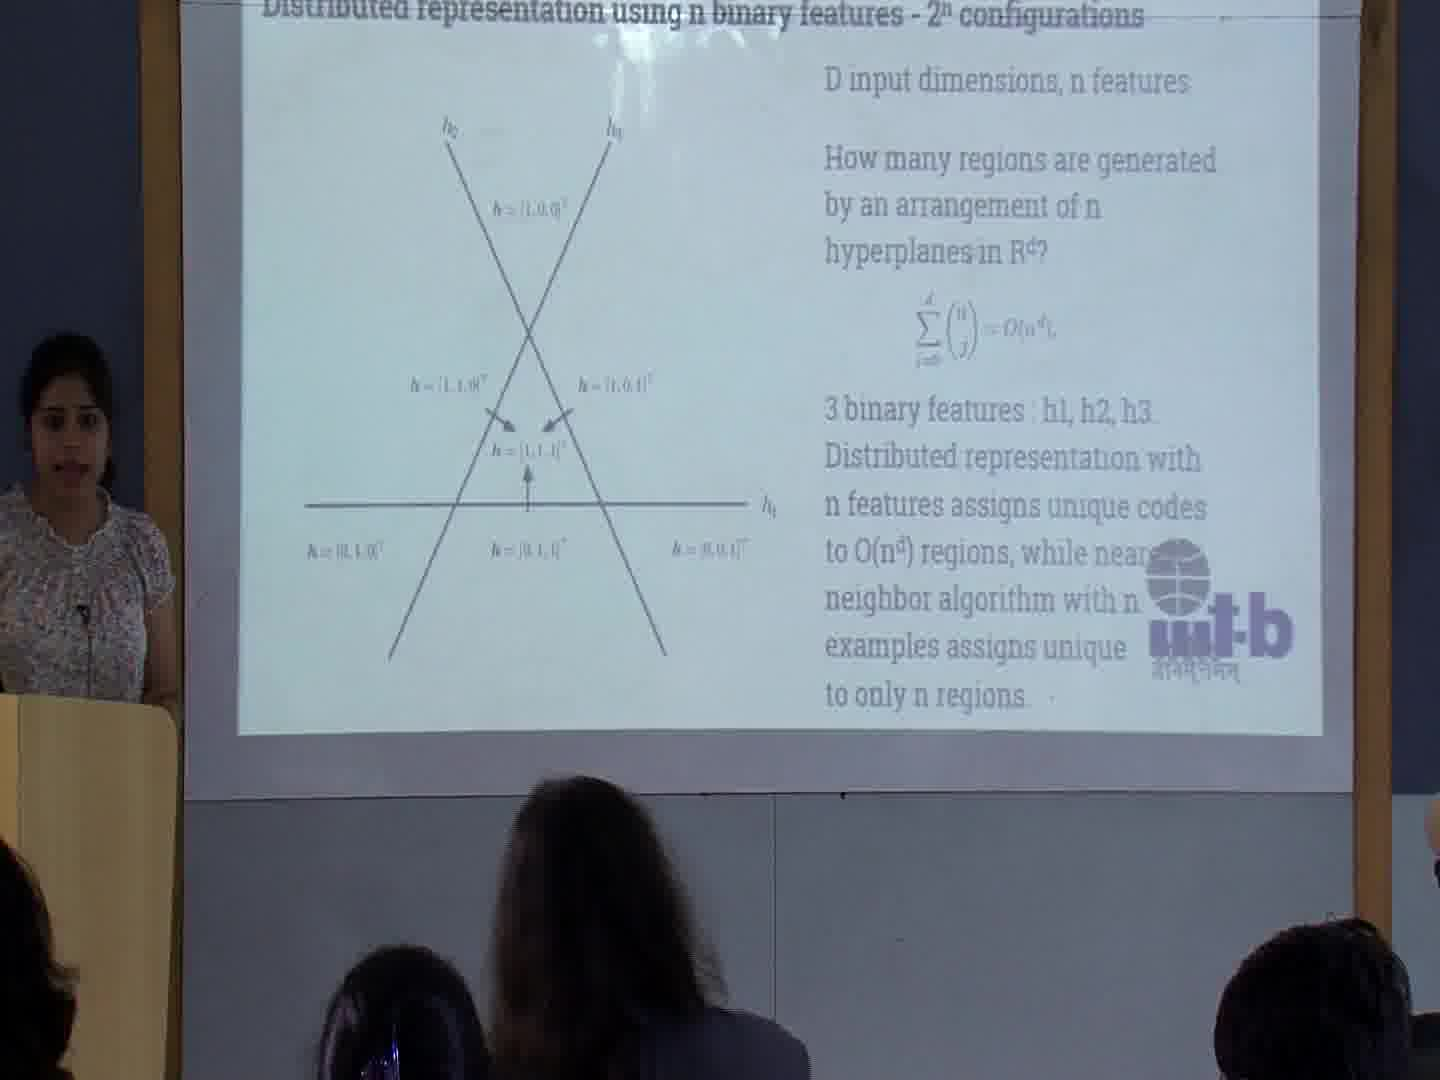eq: (910, 288, 1064, 374)
fig: (306, 116, 753, 661)
